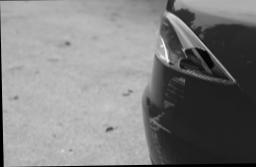Bumper: (141, 58, 218, 165)
Light: (148, 11, 238, 87)
